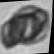correct: (0, 2, 52, 52)
